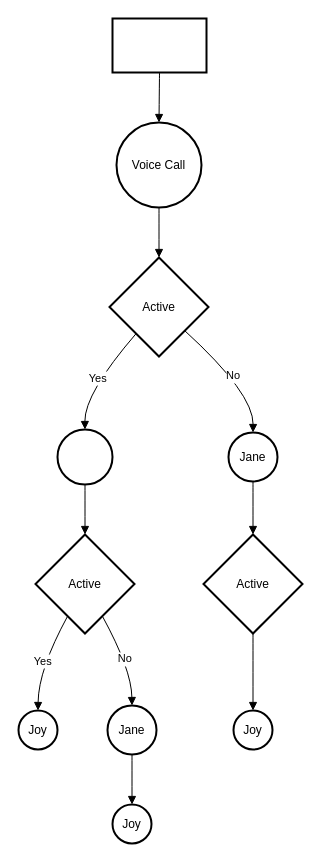
The diagram is 320 pixels wide and 861 high, and some of its shapes have lost their labels. The centre of each missing label's shape, as x and y in pixels:
"Jared" goes at point 84,456.
"John" goes at point 159,45.
